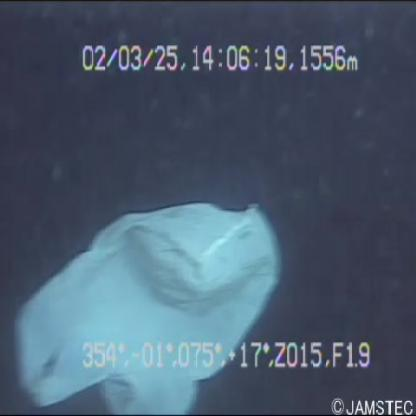Rác: (11, 186, 289, 416)
